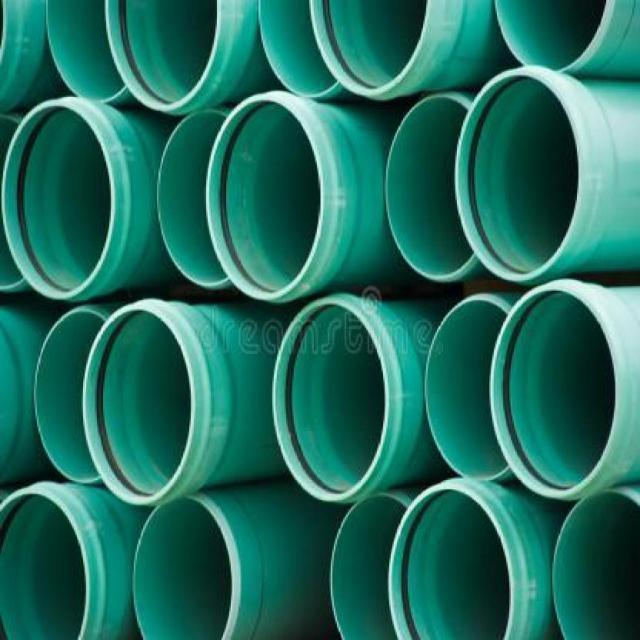pipe: (488, 287, 618, 500), (455, 70, 582, 281), (206, 94, 326, 302), (271, 299, 390, 502), (0, 98, 116, 300), (82, 305, 196, 505), (388, 482, 515, 640), (385, 96, 473, 282), (427, 295, 509, 480), (132, 495, 234, 640), (156, 109, 235, 287), (0, 487, 92, 638), (552, 488, 640, 639), (105, 0, 222, 111), (33, 307, 106, 482), (309, 0, 430, 98), (331, 493, 410, 639), (250, 0, 348, 102), (42, 0, 133, 108), (495, 0, 612, 71)
